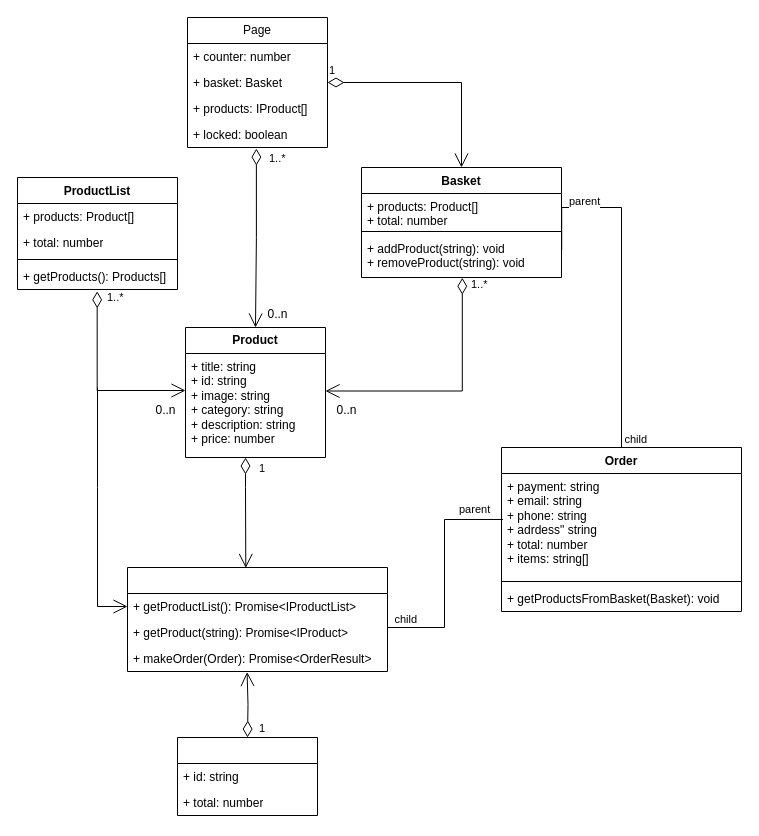
The diagram is 759 pixels wide and 836 high, and some of its shapes have lost their labels. Here are the shapes that lost their labels. From the top down, the box of each, then its label:
(126, 566, 388, 672): LarekAPI
(176, 736, 318, 816): OrderResult
